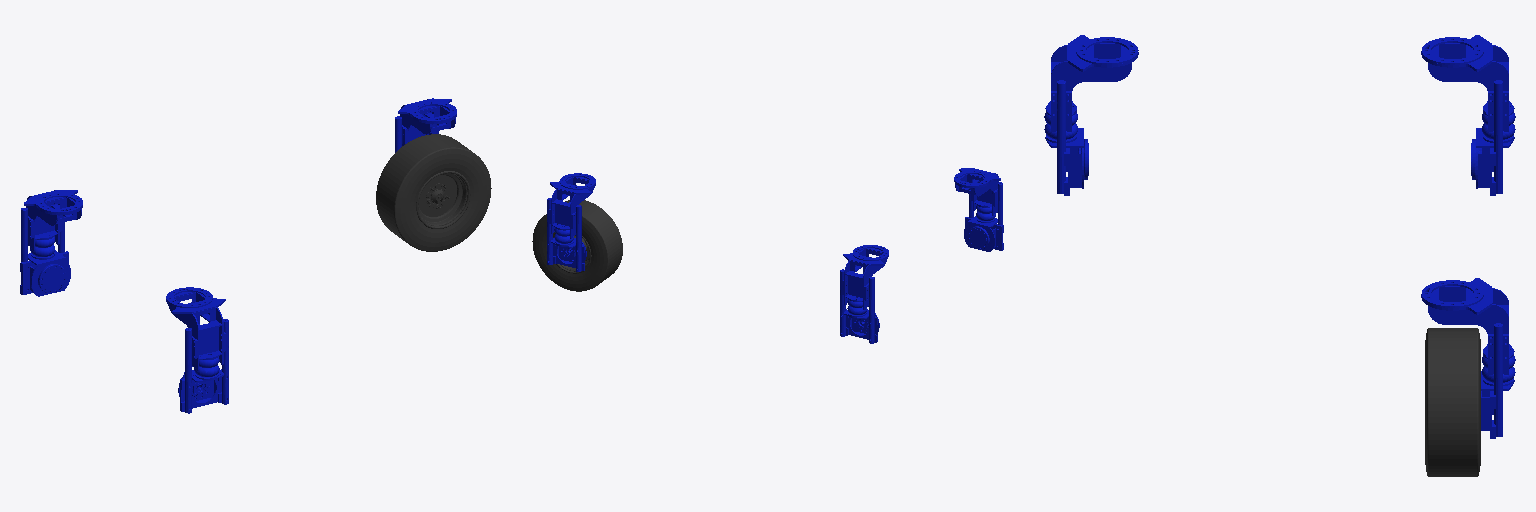
robot.urdf — agrorob_visualization_ghost:
<?xml version="1.0" encoding="utf-8"?>
<robot
  name="agrorob_visualization_ghost">
  <link
    name="base_link_ghost">
    <inertial>
      <origin
        xyz="-0.048158 -0.011907 -0.29729"
        rpy="0 0 0" />
      <mass
        value="109.44" />
      <inertia
        ixx="11.552"
        ixy="8.0751E-05"
        ixz="0.09927"
        iyy="6.1568"
        iyz="0.011191"
        izz="16.673" />
    </inertial>
    <visual>
      <origin
        xyz="0 0 0"
        rpy="0 0 0" />
      <geometry>
        <mesh
          filename="meshes_ghost/base_link_ghost.STL" />
      </geometry>
      <material
        name="">
        <color
          rgba="0.08 0.15 0.75 1" />
      </material>
    </visual>
    <collision>
      <origin
        xyz="0 0 0"
        rpy="0 0 0" />
      <geometry>
        <mesh
          filename="meshes_ghost/base_link_ghost.STL" />
      </geometry>
    </collision>
  </link>
  <link
    name="shin_RR_ghost">
    <inertial>
      <origin
        xyz="-1.6198E-05 -0.18089 -0.36666"
        rpy="0 0 0" />
      <mass
        value="13.879" />
      <inertia
        ixx="0.17331"
        ixy="4.2107E-05"
        ixz="1.8205E-06"
        iyy="0.16512"
        iyz="-0.012091"
        izz="0.098891" />
    </inertial>
    <visual>
      <origin
        xyz="0 0 0"
        rpy="0 0 0" />
      <geometry>
        <mesh
          filename="meshes_ghost/shin_RR_ghost.STL" />
      </geometry>
      <material
        name="">
        <color
          rgba="0.086 0.153 0.78402 1" />
      </material>
    </visual>
    <collision>
      <origin
        xyz="0 0 0"
        rpy="0 0 0" />
      <geometry>
        <mesh
          filename="meshes_ghost/shin_RR_ghost.STL" />
      </geometry>
    </collision>
  </link>
  <joint
    name="body_shin_RR_ghost"
    type="continuous">
    <origin
      xyz="-1.5189 -0.91134 -0.59348"
      rpy="0 0 0" />
    <parent
      link="base_link_ghost" />
    <child
      link="shin_RR_ghost" />
    <axis
      xyz="0 0 1" />
  </joint>
  <link
    name="wheel_RR_ghost">
    <inertial>
      <origin
        xyz="5.09761597659031E-05 -0.00621804725393116 -5.2513144545463E-05"
        rpy="0 0 0" />
      <mass
        value="15.2882363411273" />
      <inertia
        ixx="0.750826999841358"
        ixy="-3.17312090709986E-05"
        ixz="1.13856033648885E-05"
        iyy="1.20927676163548"
        iyz="2.64143117689303E-05"
        izz="0.750817779574298" />
    </inertial>
    <visual>
      <origin
        xyz="0 0 0"
        rpy="0 0 0" />
      <geometry>
        <mesh
          filename="meshes_ghost/wheel_RR_ghost.STL" />
      </geometry>
      <material
        name="">
        <color
          rgba="0.250980392156863 0.250980392156863 0.250980392156863 1" />
      </material>
    </visual>
    <collision>
      <origin
        xyz="0 0 0"
        rpy="0 0 0" />
      <geometry>
        <mesh
          filename="meshes_ghost/wheel_RR_ghost.STL" />
      </geometry>
    </collision>
  </link>
  <joint
    name="shin_wheel_RR_ghost"
    type="continuous">
    <origin
      xyz="0 0 -0.62885"
      rpy="0 0 0" />
    <parent
      link="shin_RR_ghost" />
    <child
      link="wheel_RR_ghost" />
    <axis
      xyz="0 1 0" />
  </joint>
  <link
    name="shin_RL_ghost">
    <inertial>
      <origin
        xyz="1.6198E-05 0.18089 -0.36666"
        rpy="0 0 0" />
      <mass
        value="13.879" />
      <inertia
        ixx="0.17331"
        ixy="4.2107E-05"
        ixz="-1.8188E-06"
        iyy="0.16512"
        iyz="0.012091"
        izz="0.09889" />
    </inertial>
    <visual>
      <origin
        xyz="0 0 0"
        rpy="0 0 0" />
      <geometry>
        <mesh
          filename="meshes_ghost/shin_RL_ghost.STL" />
      </geometry>
      <material
        name="">
        <color
          rgba="0.086 0.153 0.78402 1" />
      </material>
    </visual>
    <collision>
      <origin
        xyz="0 0 0"
        rpy="0 0 0" />
      <geometry>
        <mesh
          filename="meshes_ghost/shin_RL_ghost.STL" />
      </geometry>
    </collision>
  </link>
  <joint
    name="body_shin_RL_ghost"
    type="continuous">
    <origin
      xyz="-1.5189 0.88866 -0.59348"
      rpy="0 0 0" />
    <parent
      link="base_link_ghost" />
    <child
      link="shin_RL_ghost" />
    <axis
      xyz="0 0 1" />
  </joint>
  <link
    name="wheel_RL_ghost">
    <inertial>
      <origin
        xyz="5.0977E-05 0.006218 5.2513E-05"
        rpy="0 0 0" />
      <mass
        value="15.288" />
      <inertia
        ixx="0.75083"
        ixy="3.1732E-05"
        ixz="-1.1386E-05"
        iyy="1.2093"
        iyz="2.6415E-05"
        izz="0.75082" />
    </inertial>
    <visual>
      <origin
        xyz="0 0 0"
        rpy="0 0 0" />
      <geometry>
        <mesh
          filename="meshes_ghost/wheel_RL_ghost.STL" />
      </geometry>
      <material
        name="">
        <color
          rgba="0.25098 0.25098 0.25098 1" />
      </material>
    </visual>
    <collision>
      <origin
        xyz="0 0 0"
        rpy="0 0 0" />
      <geometry>
        <mesh
          filename="meshes_ghost/wheel_RL_ghost.STL" />
      </geometry>
    </collision>
  </link>
  <joint
    name="shin_wheel_RL_ghost"
    type="continuous">
    <origin
      xyz="0 0 -0.62885"
      rpy="0 0 0" />
    <parent
      link="shin_RL_ghost" />
    <child
      link="wheel_RL_ghost" />
    <axis
      xyz="0 -1 0" />
  </joint>
  <link
    name="shin_FR_ghost">
    <inertial>
      <origin
        xyz="-1.6198E-05 -0.18089 -0.36666"
        rpy="0 0 0" />
      <mass
        value="13.879" />
      <inertia
        ixx="0.17331"
        ixy="4.2107E-05"
        ixz="1.8193E-06"
        iyy="0.16512"
        iyz="-0.012091"
        izz="0.09889" />
    </inertial>
    <visual>
      <origin
        xyz="0 0 0"
        rpy="0 0 0" />
      <geometry>
        <mesh
          filename="meshes_ghost/shin_FR_ghost.STL" />
      </geometry>
      <material
        name="">
        <color
          rgba="0.086 0.153 0.78402 1" />
      </material>
    </visual>
    <collision>
      <origin
        xyz="0 0 0"
        rpy="0 0 0" />
      <geometry>
        <mesh
          filename="meshes_ghost/shin_FR_ghost.STL" />
      </geometry>
    </collision>
  </link>
  <joint
    name="body_shin_FR_ghost"
    type="continuous">
    <origin
      xyz="1.4791 -0.91134 -0.59348"
      rpy="0 0 0" />
    <parent
      link="base_link_ghost" />
    <child
      link="shin_FR_ghost" />
    <axis
      xyz="0 0 1" />
  </joint>
  <link
    name="wheel_FR_ghost">
    <inertial>
      <origin
        xyz="5.0976E-05 -0.012851 -5.2514E-05"
        rpy="0 0 0" />
      <mass
        value="15.288" />
      <inertia
        ixx="0.75083"
        ixy="-3.1732E-05"
        ixz="1.1386E-05"
        iyy="1.2093"
        iyz="2.6415E-05"
        izz="0.75082" />
    </inertial>
    <visual>
      <origin
        xyz="0 0 0"
        rpy="0 0 0" />
      <geometry>
        <mesh
          filename="meshes_ghost/wheel_FR_ghost.STL" />
      </geometry>
      <material
        name="">
        <color
          rgba="0.25098 0.25098 0.25098 1" />
      </material>
    </visual>
    <collision>
      <origin
        xyz="0 0 0"
        rpy="0 0 0" />
      <geometry>
        <mesh
          filename="meshes_ghost/wheel_FR_ghost.STL" />
      </geometry>
    </collision>
  </link>
  <joint
    name="shin_wheel_FR_ghost"
    type="continuous">
    <origin
      xyz="0 0 -0.62885"
      rpy="0 0 0" />
    <parent
      link="shin_FR_ghost" />
    <child
      link="wheel_FR_ghost" />
    <axis
      xyz="0 1 0" />
  </joint>
  <link
    name="shin_FL_ghost">
    <inertial>
      <origin
        xyz="1.6198E-05 0.18089 -0.36666"
        rpy="0 0 0" />
      <mass
        value="13.879" />
      <inertia
        ixx="0.17331"
        ixy="4.2107E-05"
        ixz="-1.819E-06"
        iyy="0.16512"
        iyz="0.012091"
        izz="0.09889" />
    </inertial>
    <visual>
      <origin
        xyz="0 0 0"
        rpy="0 0 0" />
      <geometry>
        <mesh
          filename="meshes_ghost/shin_FL_ghost.STL" />
      </geometry>
      <material
        name="">
        <color
          rgba="0.086 0.153 0.78402 1" />
      </material>
    </visual>
    <collision>
      <origin
        xyz="0 0 0"
        rpy="0 0 0" />
      <geometry>
        <mesh
          filename="meshes_ghost/shin_FL_ghost.STL" />
      </geometry>
    </collision>
  </link>
  <joint
    name="body_shin_FL_ghost"
    type="continuous">
    <origin
      xyz="1.4791 0.88866 -0.59348"
      rpy="0 0 0" />
    <parent
      link="base_link_ghost" />
    <child
      link="shin_FL_ghost" />
    <axis
      xyz="0 0 1" />
  </joint>
  <link
    name="wheel_FL_ghost">
    <inertial>
      <origin
        xyz="5.0977E-05 0.006218 5.2514E-05"
        rpy="0 0 0" />
      <mass
        value="15.288" />
      <inertia
        ixx="0.75083"
        ixy="3.1732E-05"
        ixz="-1.1386E-05"
        iyy="1.2093"
        iyz="2.6415E-05"
        izz="0.75082" />
    </inertial>
    <visual>
      <origin
        xyz="0 0 0"
        rpy="0 0 0" />
      <geometry>
        <mesh
          filename="meshes_ghost/wheel_FL_ghost.STL" />
      </geometry>
      <material
        name="">
        <color
          rgba="0.25098 0.25098 0.25098 1" />
      </material>
    </visual>
    <collision>
      <origin
        xyz="0 0 0"
        rpy="0 0 0" />
      <geometry>
        <mesh
          filename="meshes_ghost/wheel_FL_ghost.STL" />
      </geometry>
    </collision>
  </link>
  <joint
    name="shin_wheel_FL_ghost"
    type="continuous">
    <origin
      xyz="0 0 -0.62885"
      rpy="0 0 0" />
    <parent
      link="shin_FL_ghost" />
    <child
      link="wheel_FL_ghost" />
    <axis
      xyz="0 -1 0" />
  </joint>
</robot>

--- Render facts (derived) ---
The picture shows the robot from 3 angles, left to right: view 1: azimuth 30°, elevation 25°; view 2: azimuth 150°, elevation 25°; view 3: azimuth 270°, elevation 25°; orthographic projection.
Robot: agrorob_visualization_ghost — 9 links, 8 joints (8 continuous); root link base_link_ghost; default pose: all joints at 0.
Visible links, largest first — view 1: wheel_FL_ghost, shin_RR_ghost, shin_RL_ghost, shin_FL_ghost; view 2: wheel_FL_ghost, shin_FL_ghost, shin_RL_ghost, shin_RR_ghost; view 3: wheel_FL_ghost, shin_RL_ghost, shin_RR_ghost, shin_FL_ghost.
Link boxes in pixels (x1,y1,x2,y2): wheel_FL_ghost: [376, 134, 491, 251]; shin_RR_ghost: [166, 287, 228, 413]; shin_RL_ghost: [20, 190, 82, 296]; shin_FL_ghost: [395, 98, 456, 152]; wheel_FL_ghost: [532, 200, 622, 291]; shin_FL_ghost: [547, 173, 595, 271]; shin_RL_ghost: [840, 245, 888, 343]; shin_RR_ghost: [954, 168, 1003, 251]; wheel_FL_ghost: [1425, 328, 1480, 476]; shin_RL_ghost: [1421, 35, 1515, 195]; shin_RR_ghost: [1044, 35, 1138, 195]; shin_FL_ghost: [1421, 278, 1515, 438].
Size in the robot's own frame: 3.6 by 2.46 by 1.02 metres.
Meshes: 9 distinct files referenced, 4 mesh visuals loaded (4 binary STL); not drawn: 5 (reference not matched to a file when rendering).